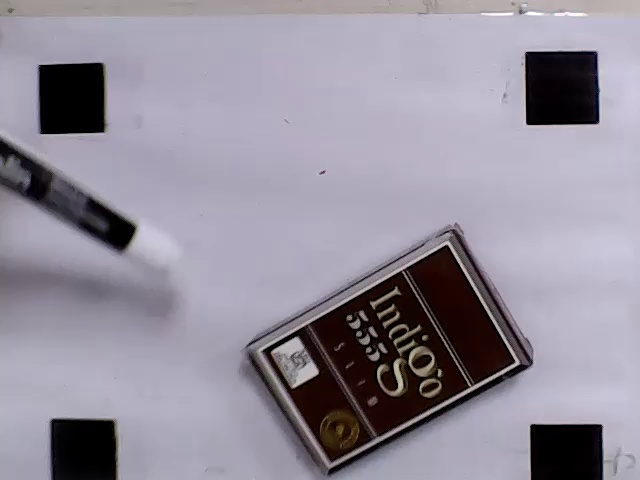BEX: (260, 243, 520, 467)
